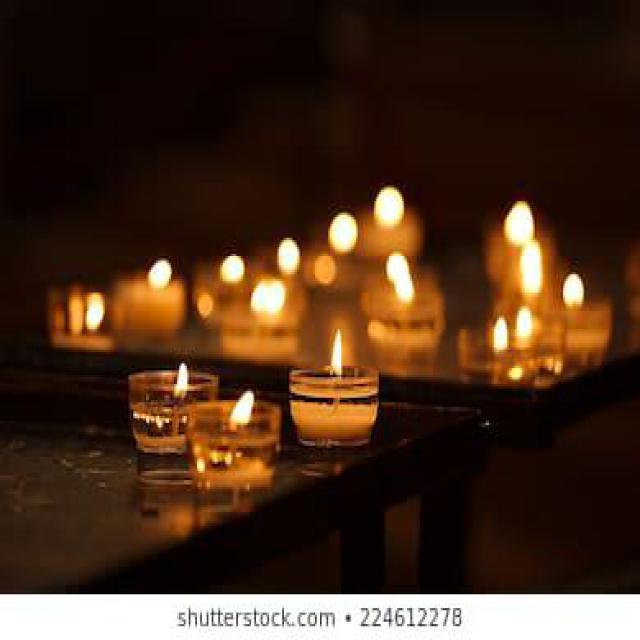Fire: (230, 389, 253, 432), (331, 328, 344, 381)
